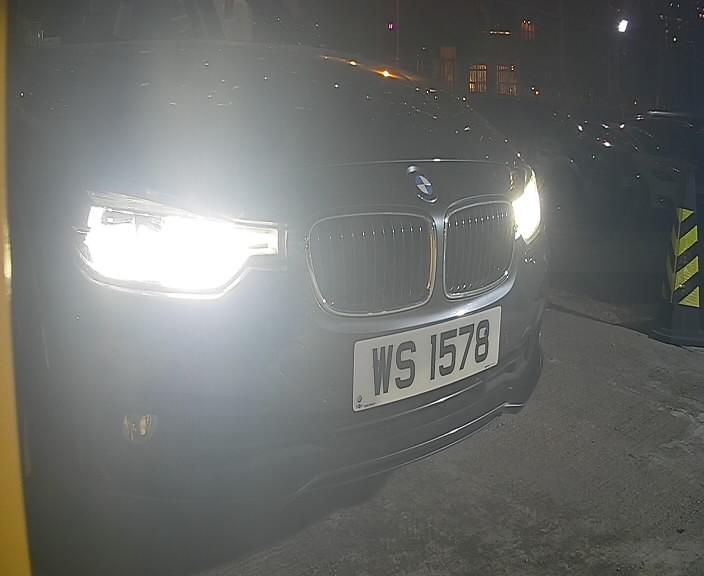License Plate: (335, 294, 511, 431)
